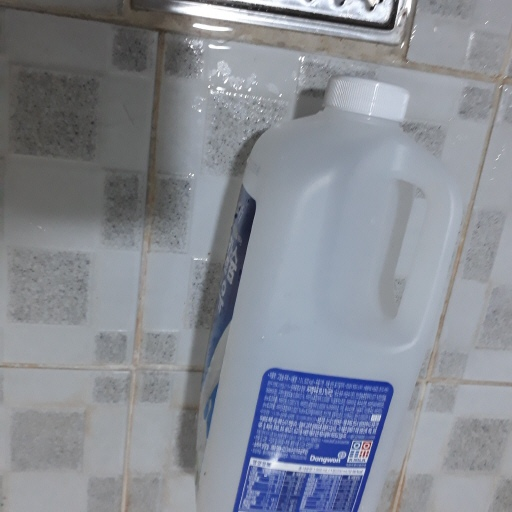Plastic_1: (199, 74, 460, 512)
